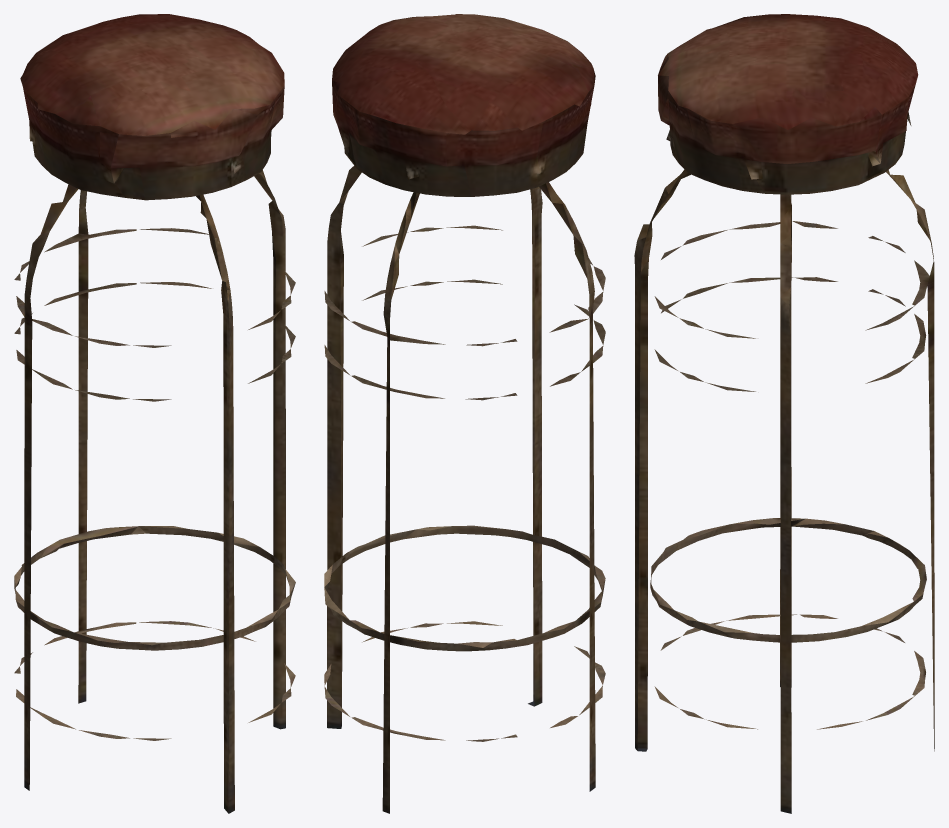
The model's file is stool_tall.glb.
3 views of the same model, side by side, from view 1: azimuth 30°, elevation 25°; view 2: azimuth 150°, elevation 25°; view 3: azimuth 270°, elevation 25° (orthographic).
Visible parts, largest first — view 1: mesh; view 2: mesh; view 3: mesh.
Boxes of the visible parts, bbox=[...] form: mesh: bbox=[14, 14, 295, 813]; mesh: bbox=[324, 14, 605, 813]; mesh: bbox=[634, 14, 934, 813].
Bounding box in the file's own units: 0.3395 × 0.88 × 0.3401.
Materials: 1 (1 with a texture image).
